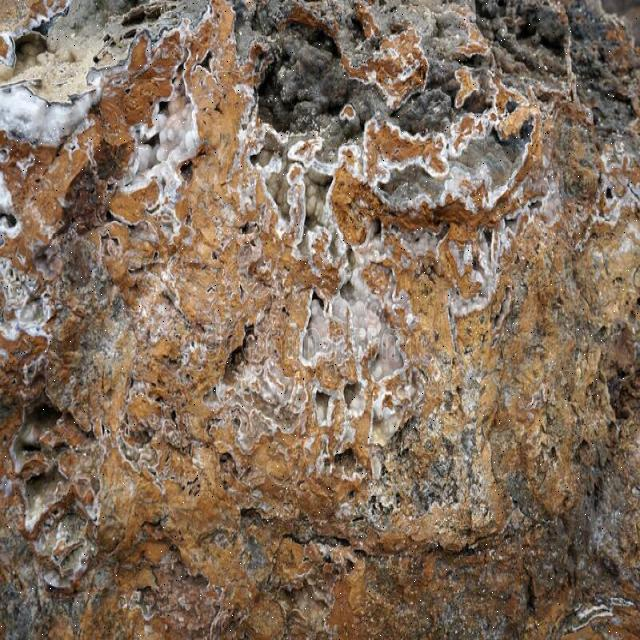Sedimentary: (1, 1, 639, 636)
